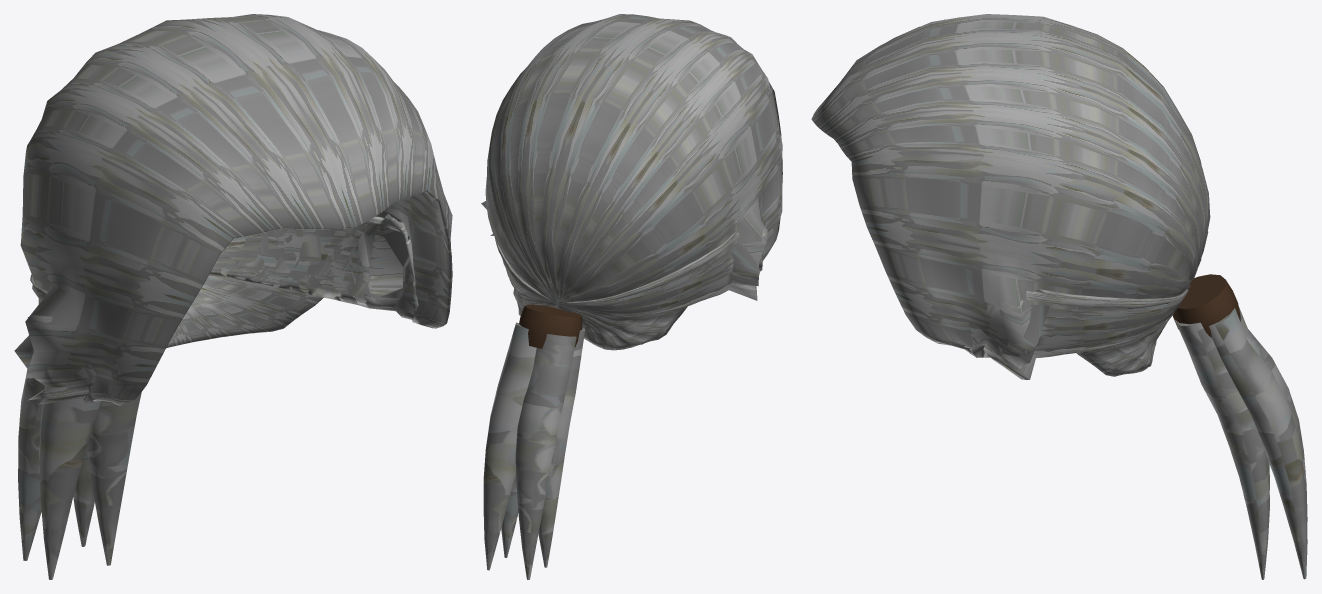
File: hair.tied.hair-1.gltf
3 renders of one model, left to right at view 1: azimuth 30°, elevation 25°; view 2: azimuth 150°, elevation 25°; view 3: azimuth 270°, elevation 25°, orthographic. The views are drawn at different scales.
Visible parts, largest first — view 1: hair.tied; view 2: hair.tied; view 3: hair.tied.
Part boxes in pixels (box(x1,y1,x2,y2)): hair.tied: box(14, 14, 452, 579); hair.tied: box(481, 14, 782, 579); hair.tied: box(811, 14, 1307, 579).
Bounding box in the file's own units: 0.189 × 0.2887 × 0.2441.
2 materials, 1 textured.
